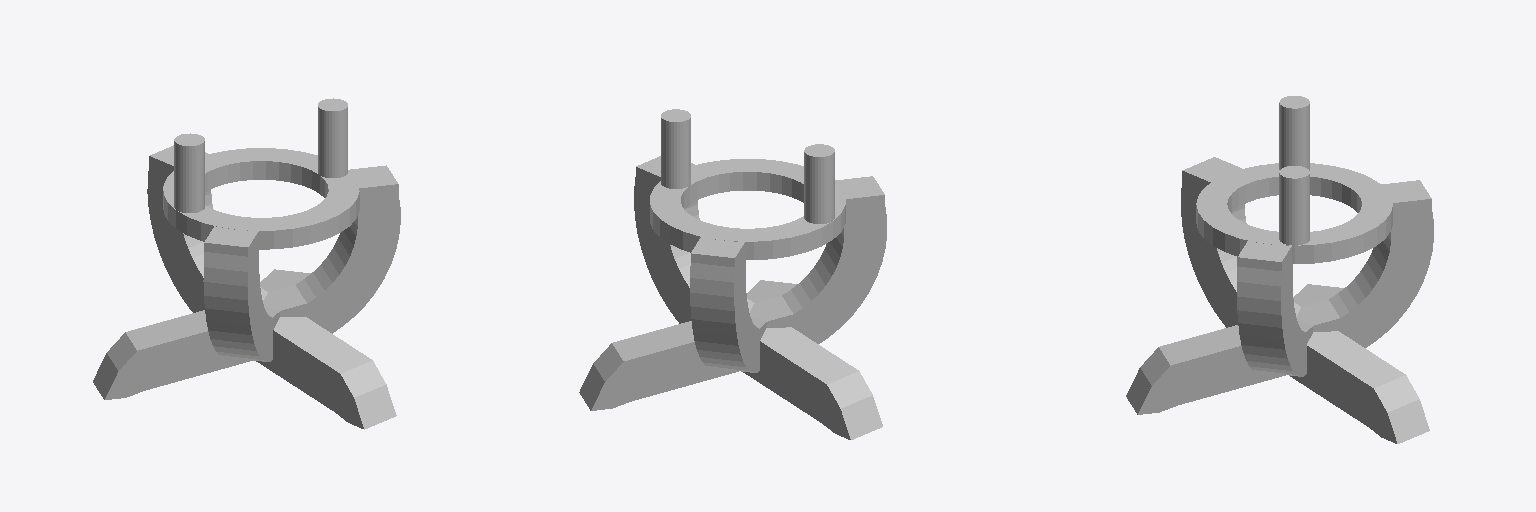
The model's file is expository.obj.
3 views of the same model, side by side, from view 1: azimuth 30°, elevation 25°; view 2: azimuth 150°, elevation 25°; view 3: azimuth 270°, elevation 25° (orthographic).
Parts seen in each view (by area): view 1: Cylinder.001; view 2: Cylinder.001; view 3: Cylinder.001.
Part boxes in pixels (left/top/right/bottom): Cylinder.001: left=93, top=98, right=400, bottom=429; Cylinder.001: left=579, top=109, right=886, bottom=439; Cylinder.001: left=1126, top=96, right=1433, bottom=443.
Bounding box in the file's own units: 0.3858 × 0.3454 × 0.3858.